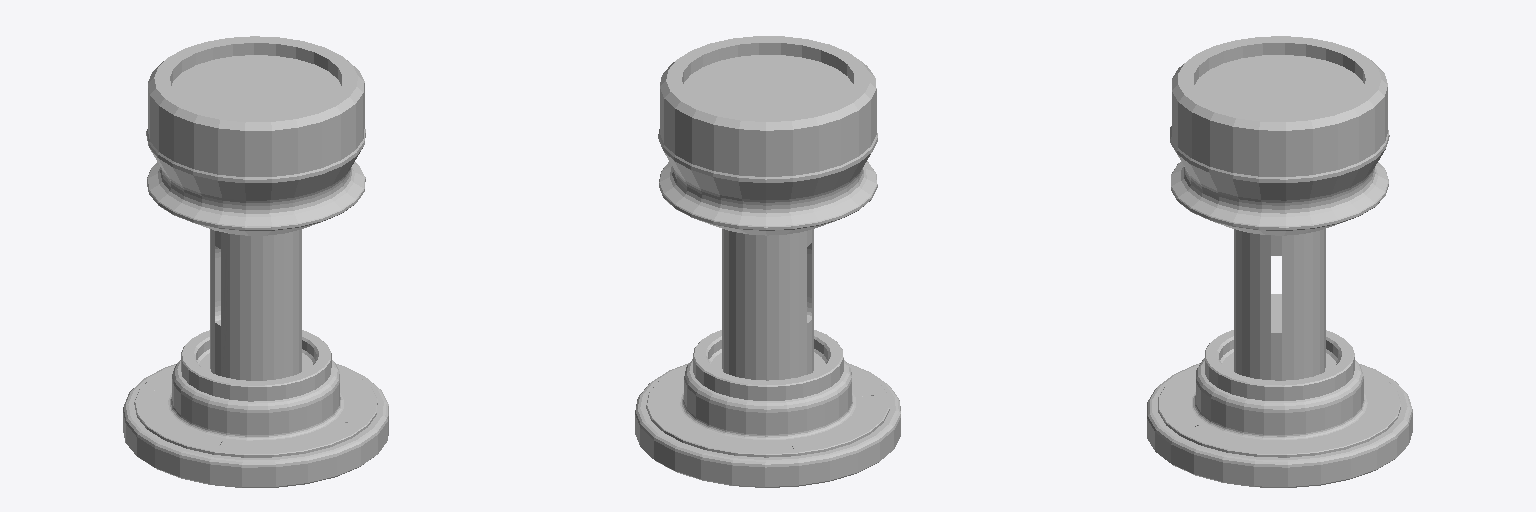
File: Assets fot Game.obj
The picture shows the model from 3 angles: view 1: azimuth 30°, elevation 25°; view 2: azimuth 150°, elevation 25°; view 3: azimuth 270°, elevation 25°; orthographic projection.
Visible parts, largest first — view 1: Cylinder.010; view 2: Cylinder.010; view 3: Cylinder.010.
Part boxes in pixels (x1,y1,x2,y2): Cylinder.010: (123,36,388,487); Cylinder.010: (635,36,900,487); Cylinder.010: (1147,36,1412,487).
Size of the model in its own units: 1.58 by 2.31 by 1.58.